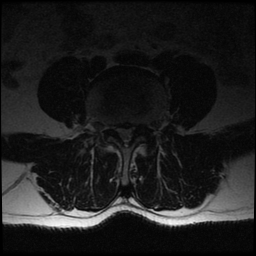CCS_normal: (123, 118, 129, 152)
LFS_severe_stenosis: (137, 117, 145, 137)
LLS_normal: (129, 120, 136, 141)
RFS_severe_stenosis: (108, 118, 116, 137)
RLS_stenosis: (116, 120, 123, 142)
